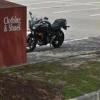Motorcycle: (27, 9, 79, 60)
